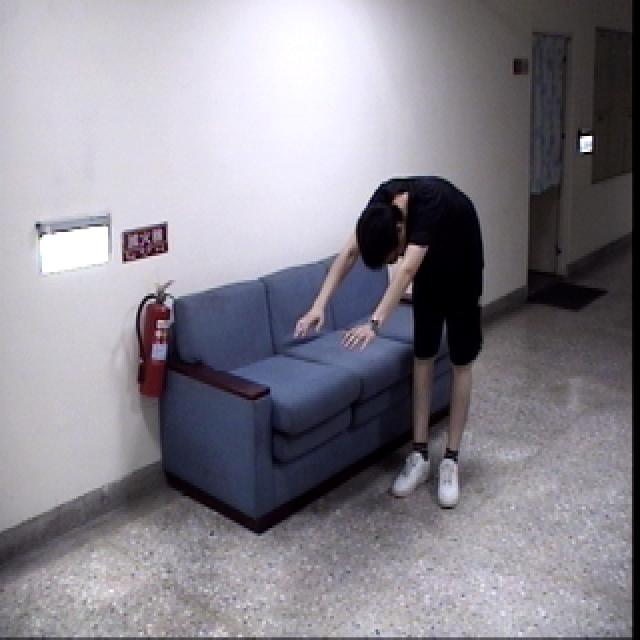bend: (283, 167, 492, 510)
